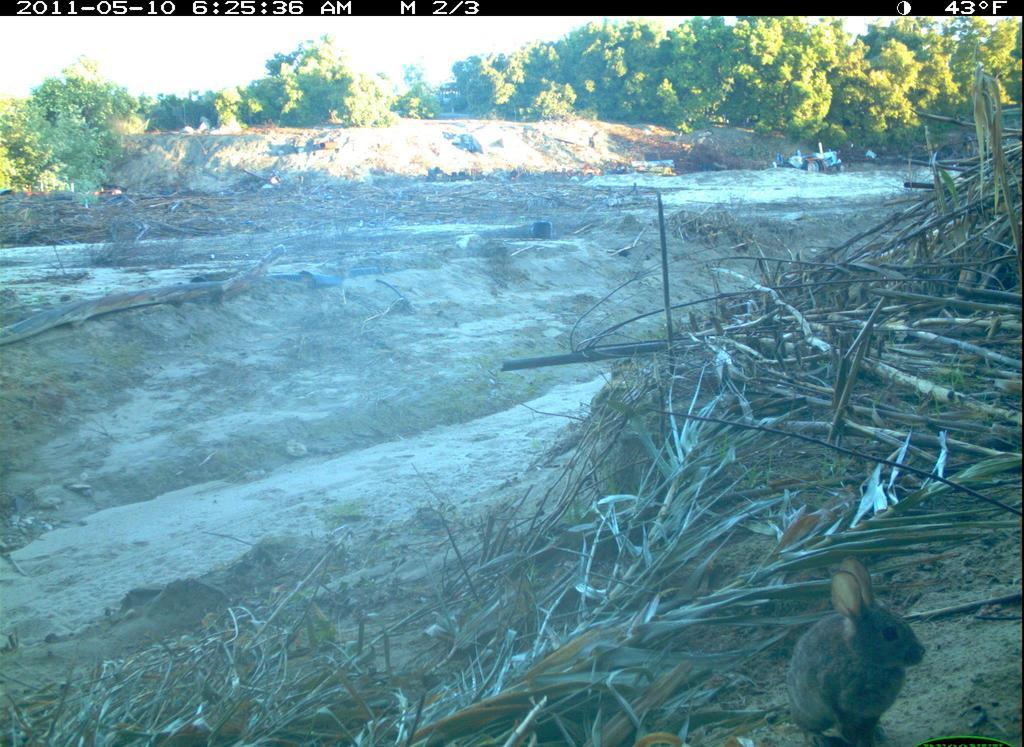rabbit: (781, 550, 934, 739)
